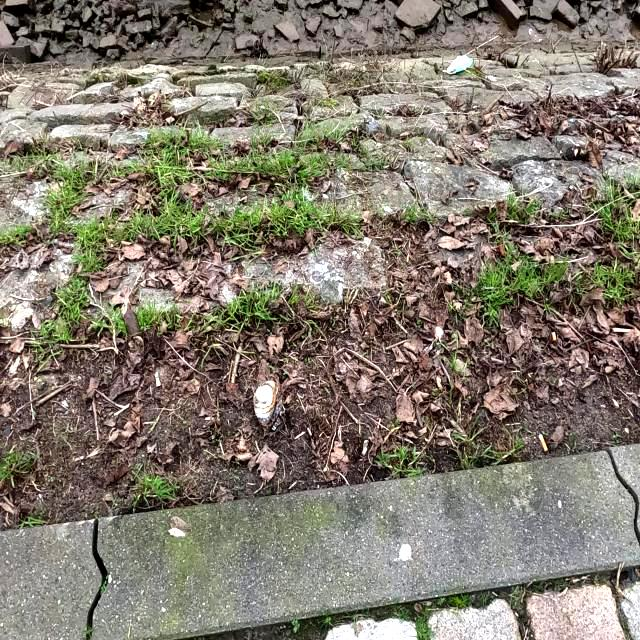Mask: (441, 53, 473, 75)
Metal: (252, 380, 288, 438)
